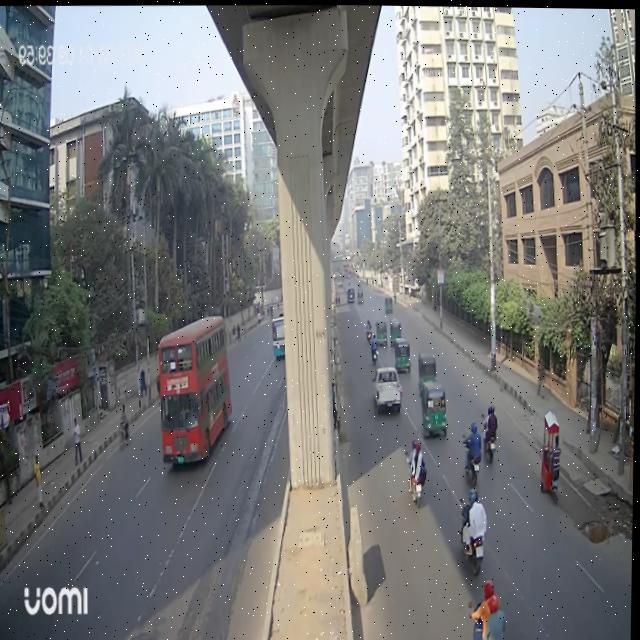cng: (422, 376, 448, 438), (415, 340, 441, 394), (392, 332, 412, 381), (373, 315, 390, 356), (389, 315, 405, 349), (383, 290, 396, 317)
